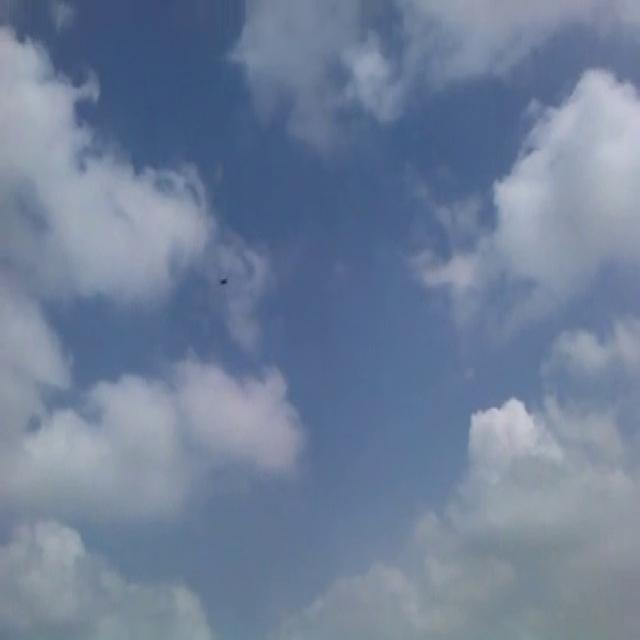drone: (215, 268, 231, 292)
